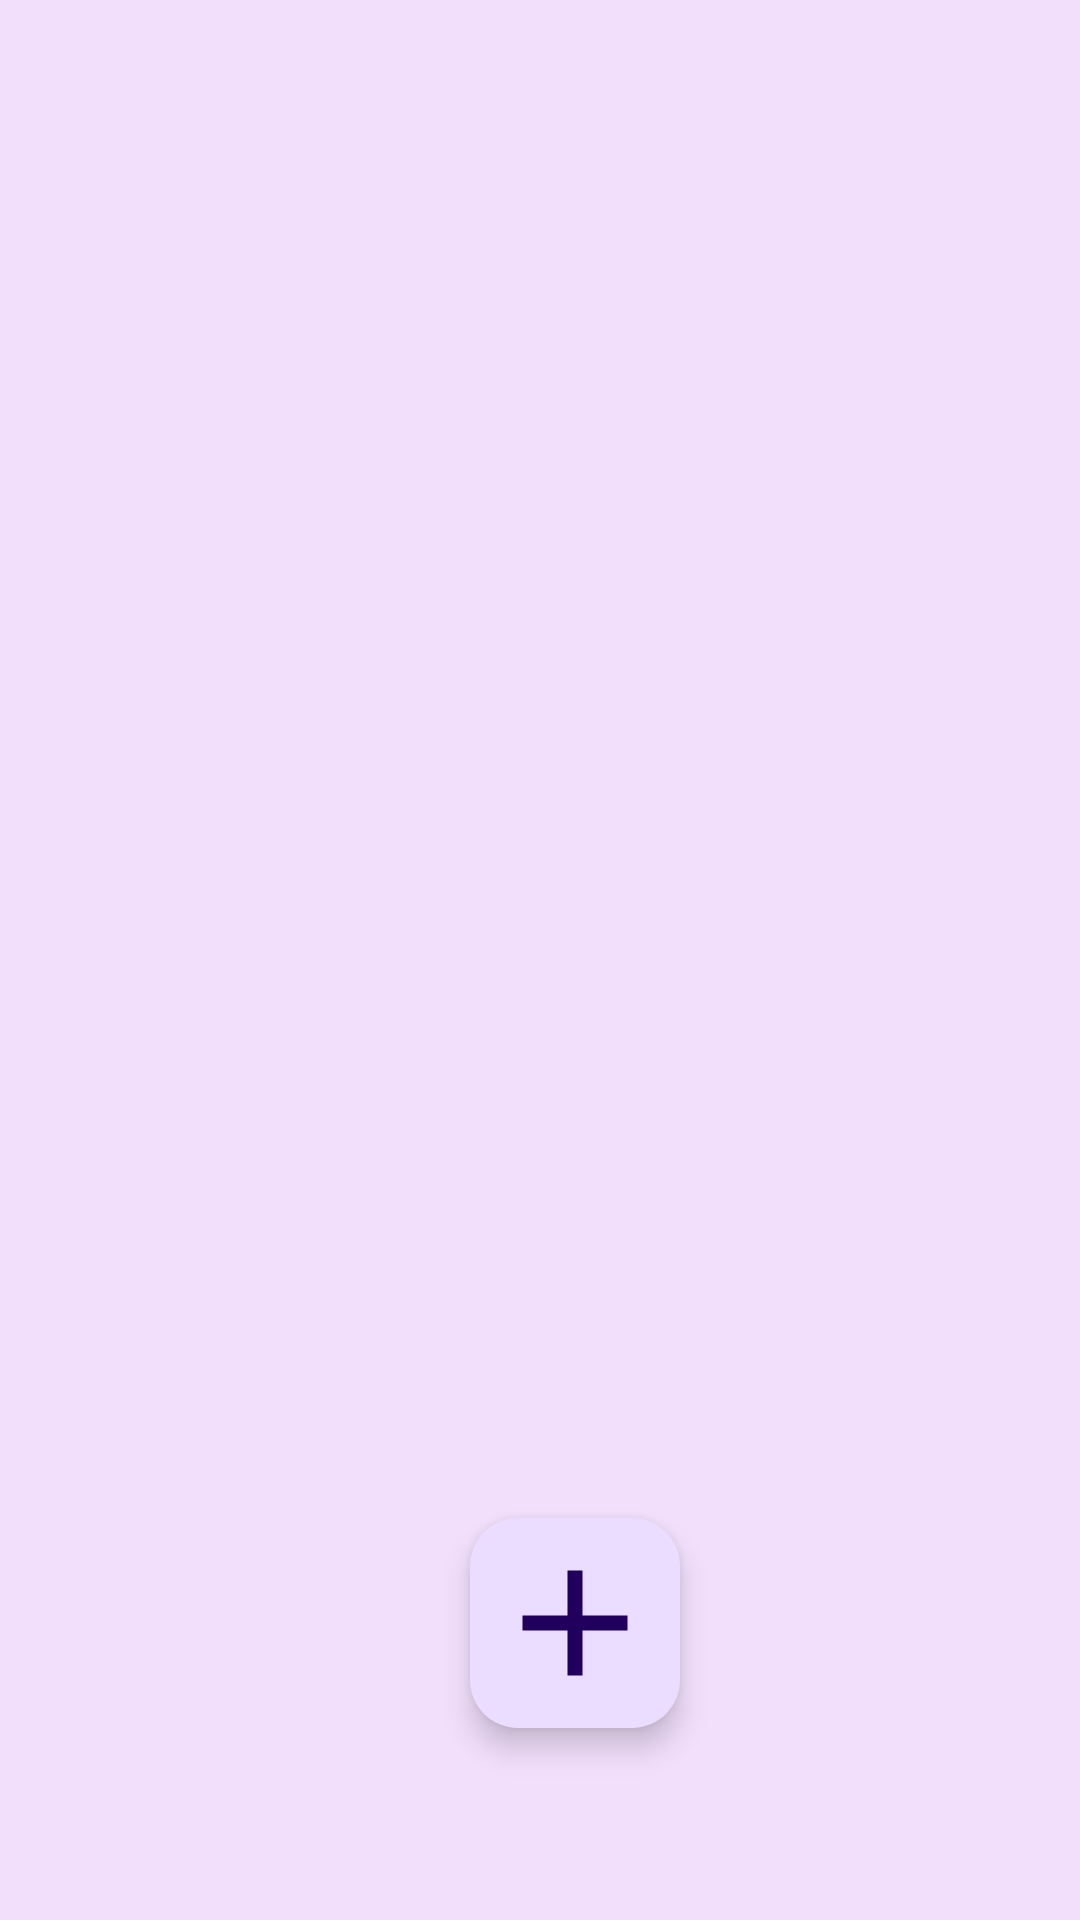

Locate icon controls on the screen. Image size 1080w x 1920h, boxes as [left=x1, top=y1, right=x2, bottom=y2].
add: [left=470, top=1518, right=680, bottom=1728]
